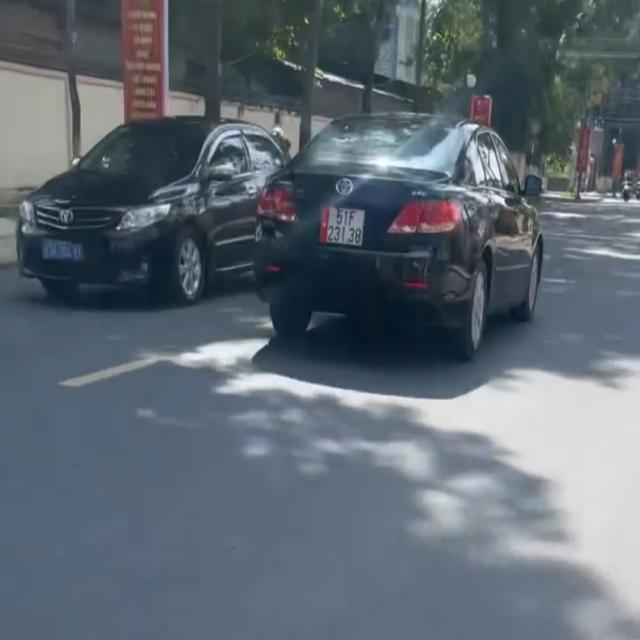Car: (253, 102, 544, 359), (14, 112, 301, 306)
